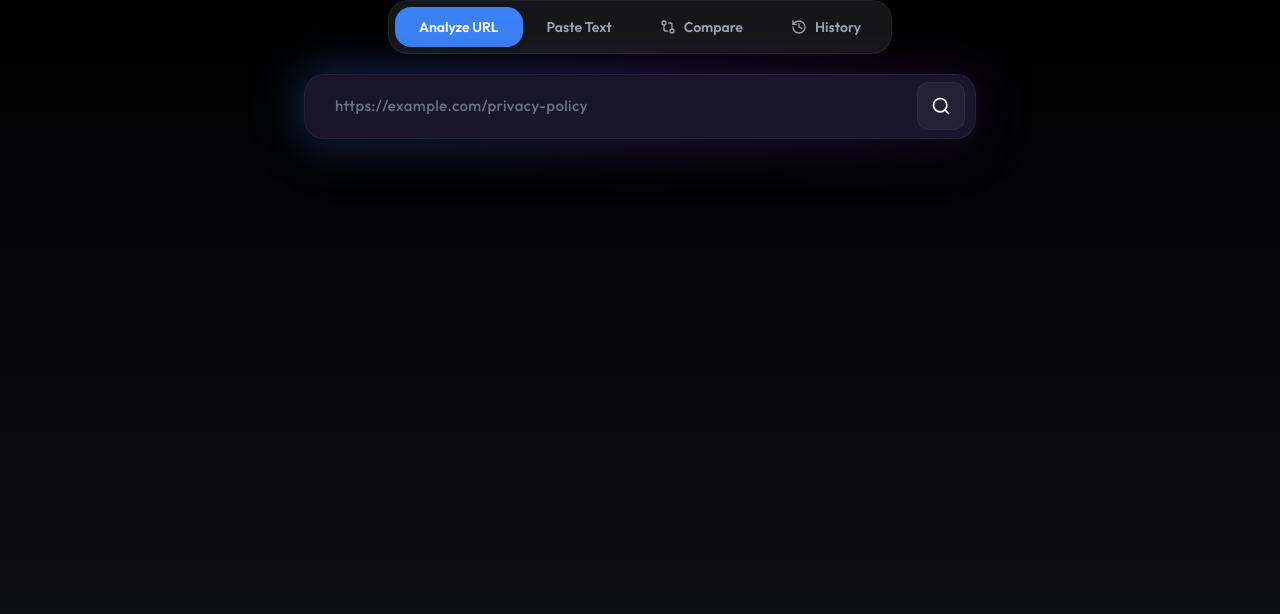
Test case: PolicyAnalyzer Component › switches to Compare tab when clicked
Click the tab "Compare": (701, 27) [636,7,767,47]
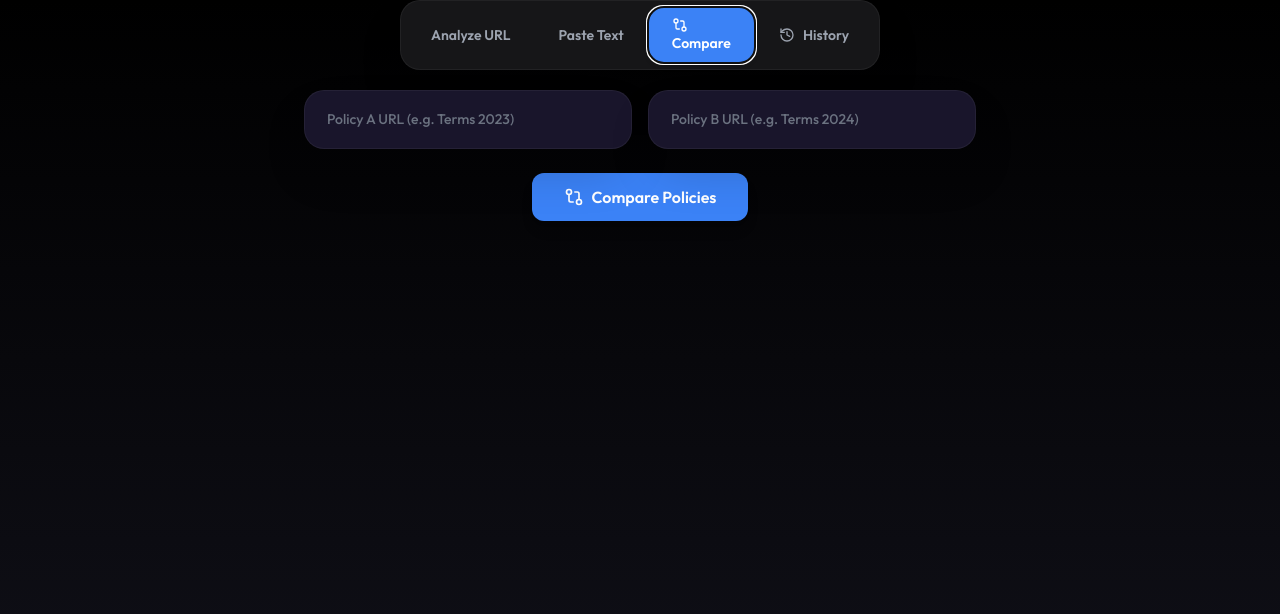
Result: the field with placeholder "Policy A URL (e.g. Terms 2023)" is shown at [311,97,625,142]
Result: the field with placeholder "Policy B URL (e.g. Terms 2024)" is shown at [655,97,969,142]
